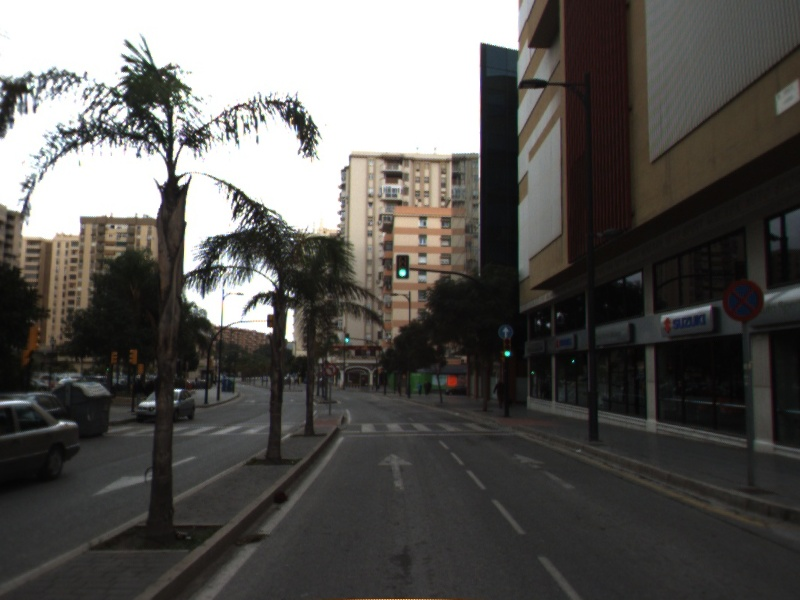STRAIGHT: (512, 450, 579, 492), (375, 450, 416, 494)
